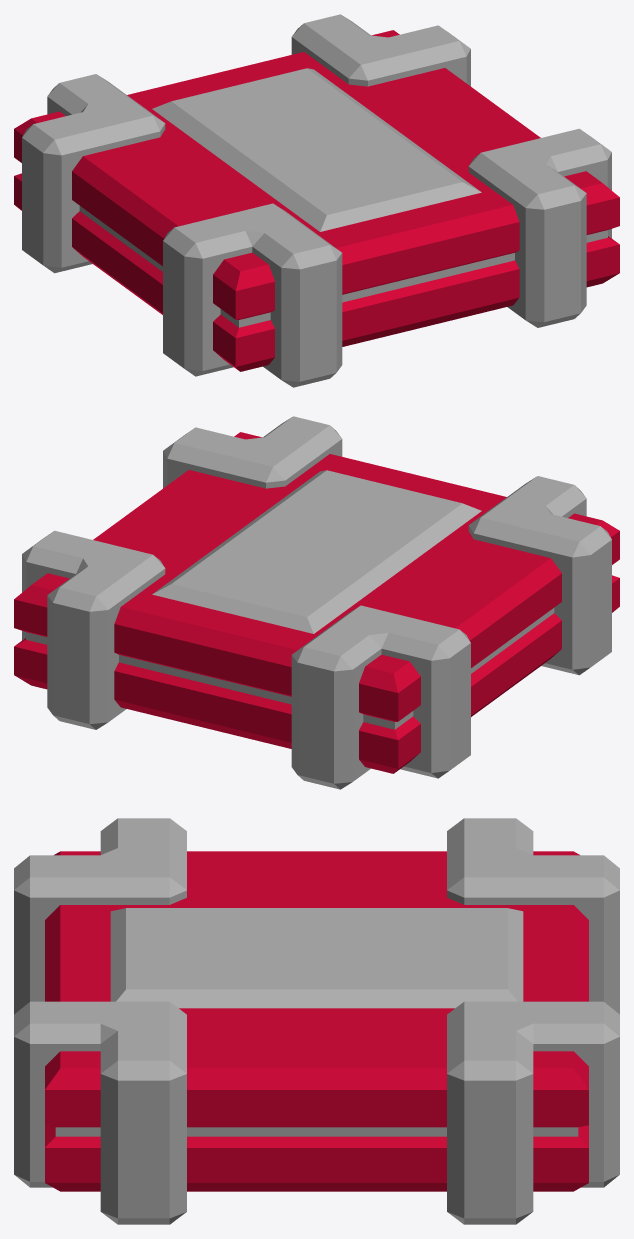
The model's file is pickup_box.fbx.
The picture shows the model from 3 angles, top to bottom: view 1: azimuth 30°, elevation 25°; view 2: azimuth 150°, elevation 25°; view 3: azimuth 270°, elevation 25°; orthographic projection. The views are drawn at different scales.
Visible parts, largest first — view 1: PickupBox; view 2: PickupBox; view 3: PickupBox.
Part boxes in pixels (box(x1,y1,x2,y2)): PickupBox: box(14, 14, 619, 387); PickupBox: box(14, 416, 619, 789); PickupBox: box(14, 818, 619, 1224).
Size of the model in its own units: 2.23 by 0.665 by 2.23.
